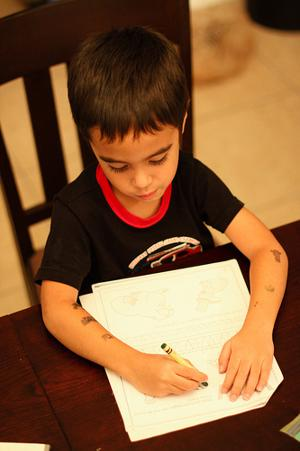person: (38, 23, 290, 405)
